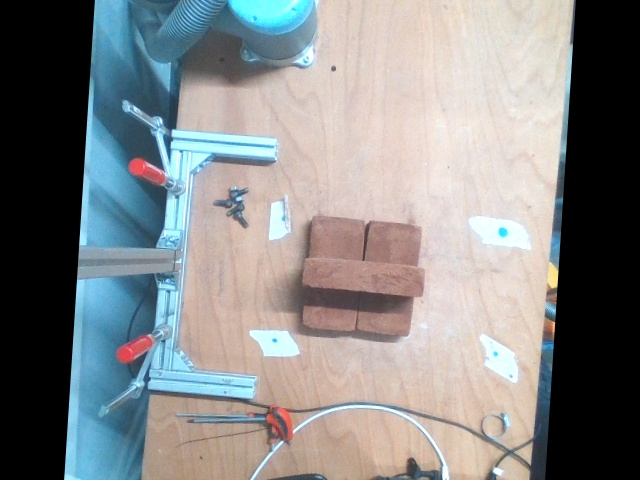brick-side: (302, 256, 426, 298)
